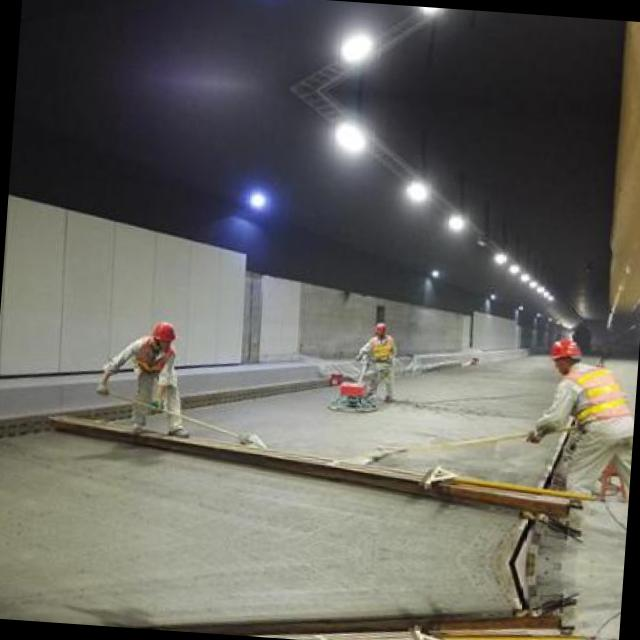helmet: (546, 333, 586, 378), (146, 316, 177, 352), (372, 316, 388, 341)
